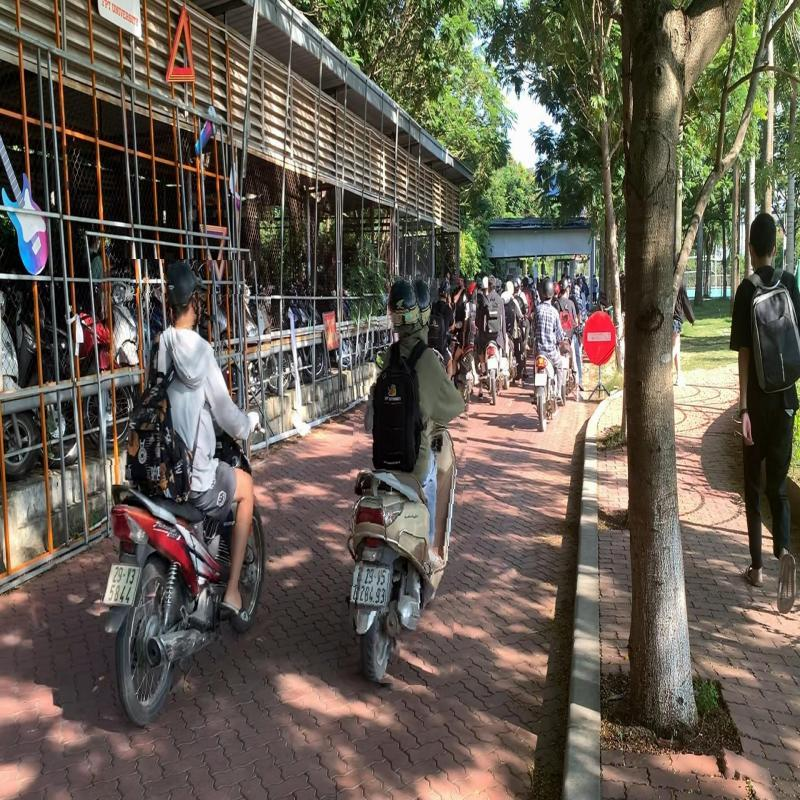helmet: (164, 260, 203, 328), (386, 275, 422, 332)
licenseplate: (101, 561, 142, 607), (356, 562, 392, 612)
motorcyclist: (100, 258, 270, 728), (343, 274, 471, 686)
